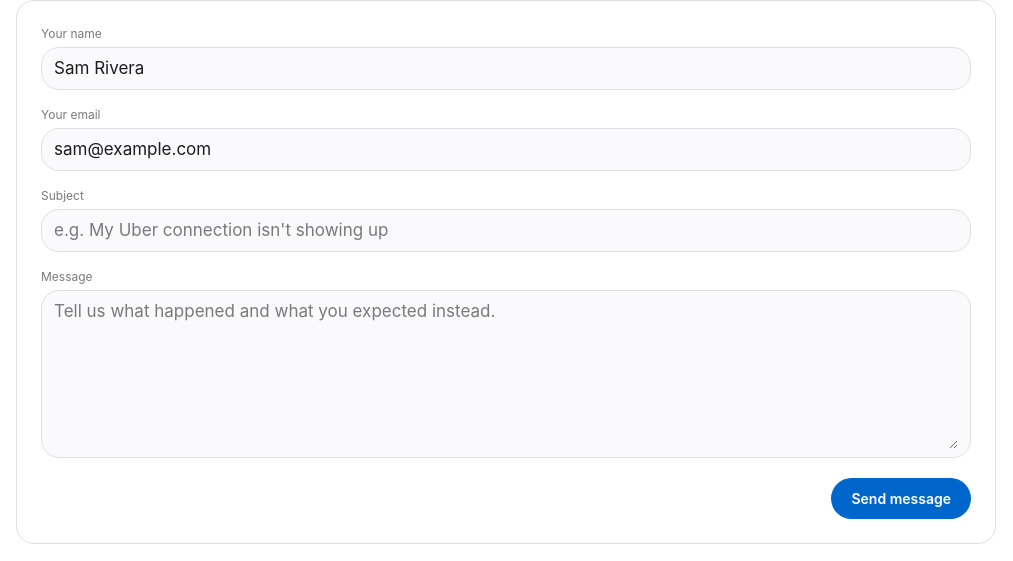
Test: ContactForm › posts the message and confirms, moving focus into the confirmation
The width and height of the screenshot is (1013, 561).
Step 1. Type "Uber connection missing" into the field labelled "Subject" → (506, 230), box 54,218 -> 958,243
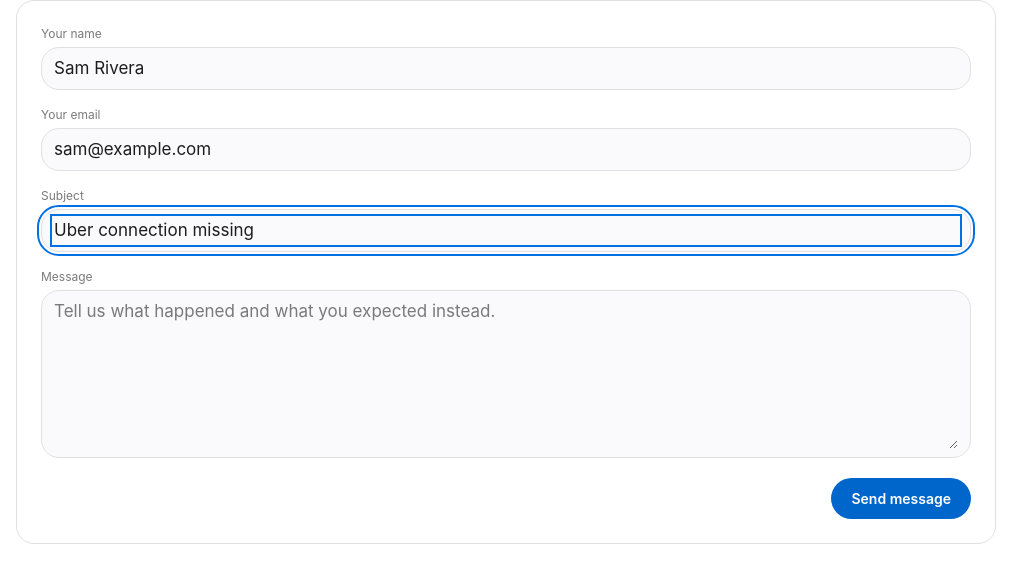
Step 2. Type "My Uber earnings stopped showing up after Tuesday." into the text box labelled "Message" → (506, 374), box 54,299 -> 958,449
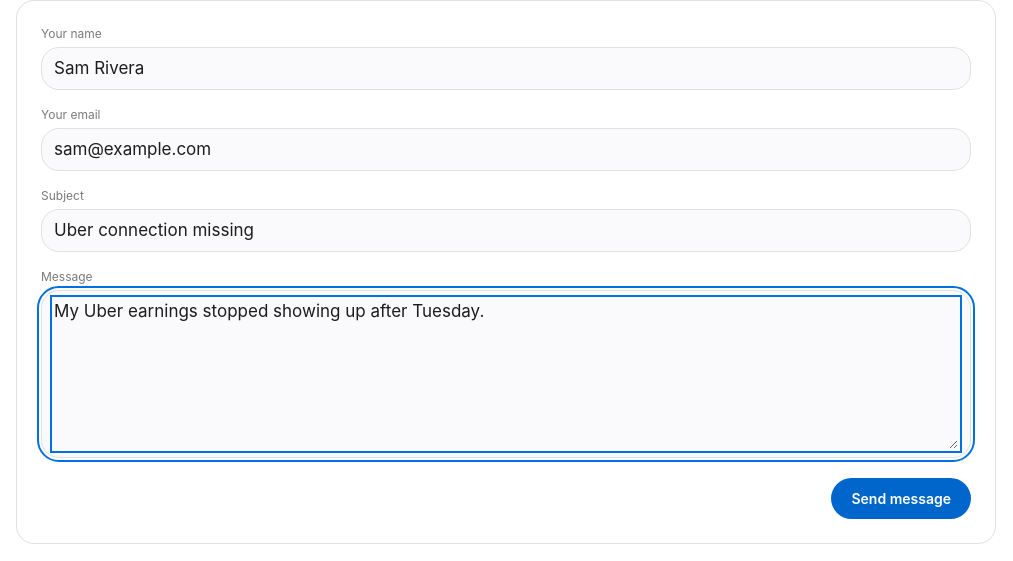
Step 3. Click the button "Send message" → (901, 498), box 831,478 -> 971,519
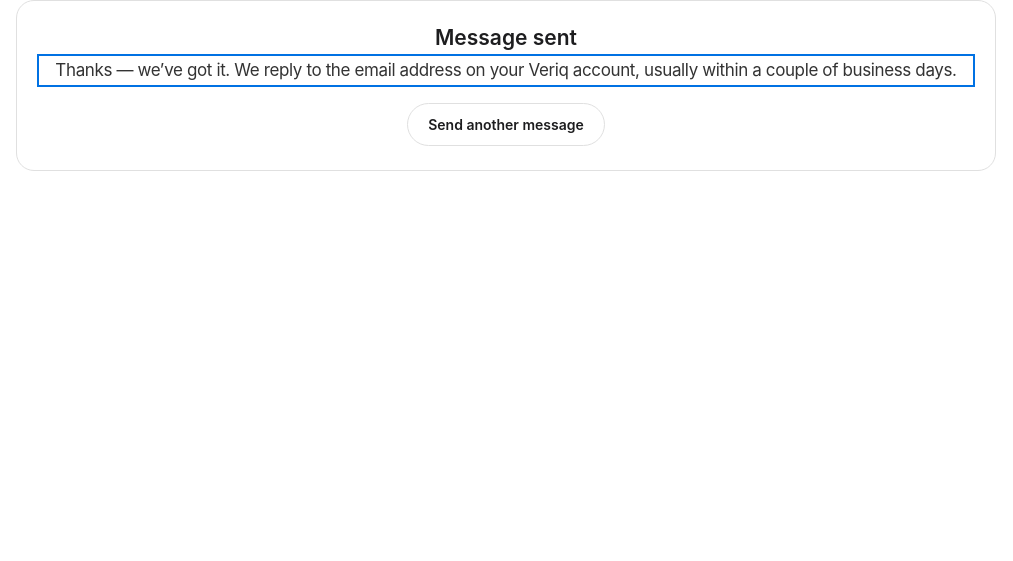
Expected: the heading "Message sent" is shown, 435,25 -> 577,50
Expected: the text "we’ve got it" is shown, 55,60 -> 957,80
